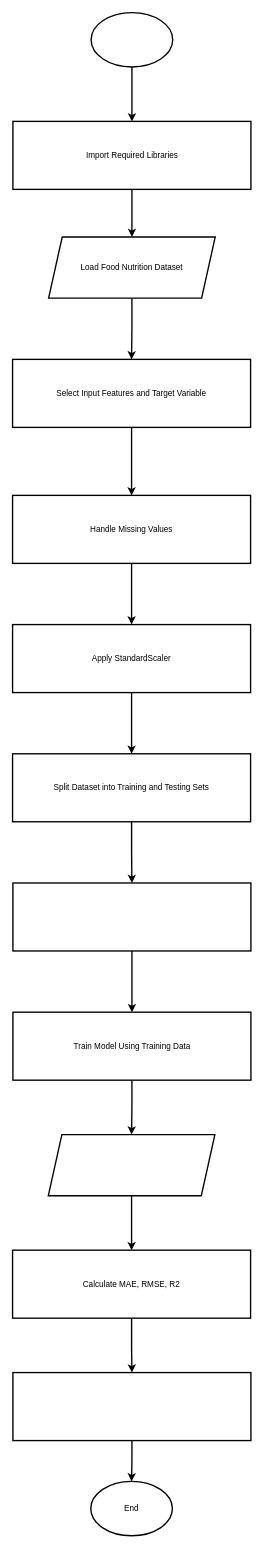
Image size: 263x1548. Some labels were removed from this diagram. Each missing label, with the centre of its shape:
"Initialize Linear Regression Model" belongs at (x=131, y=916).
"Predict Calories" belongs at (x=131, y=1165).
"Start" belongs at (x=131, y=39).
"Store Evaluation Results" belongs at (x=131, y=1406).
